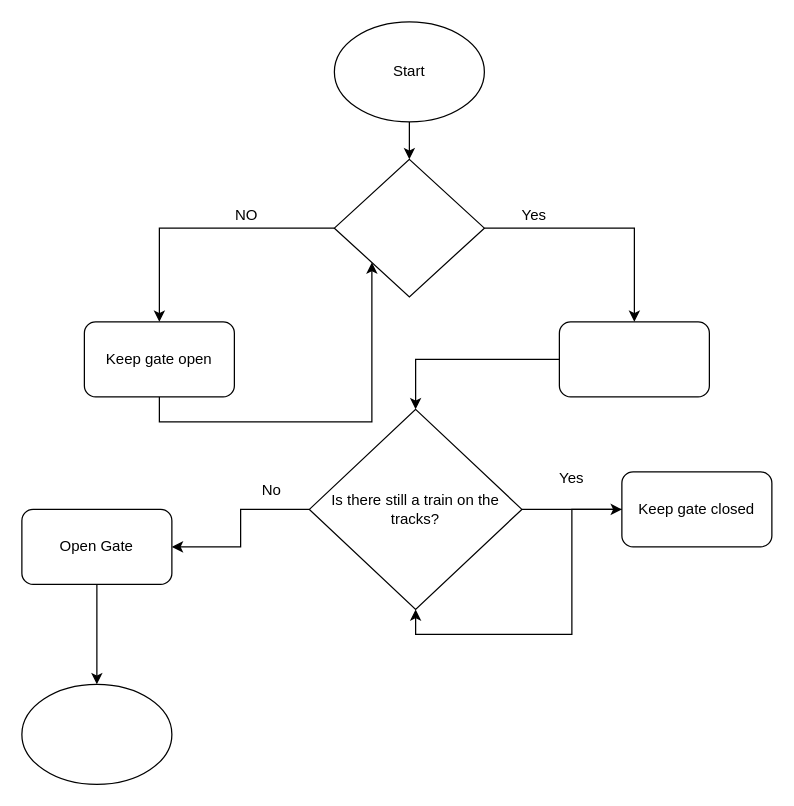
Image size: 794x806. Some labels were removed from this diagram. Here are the shapes that lost their labels. From the top down, the centre of each, then its label:
At pixel 408 227: "Is a train approaching?".
At pixel 633 359: "Close Gate".
At pixel 96 733: "End/Repeat".
